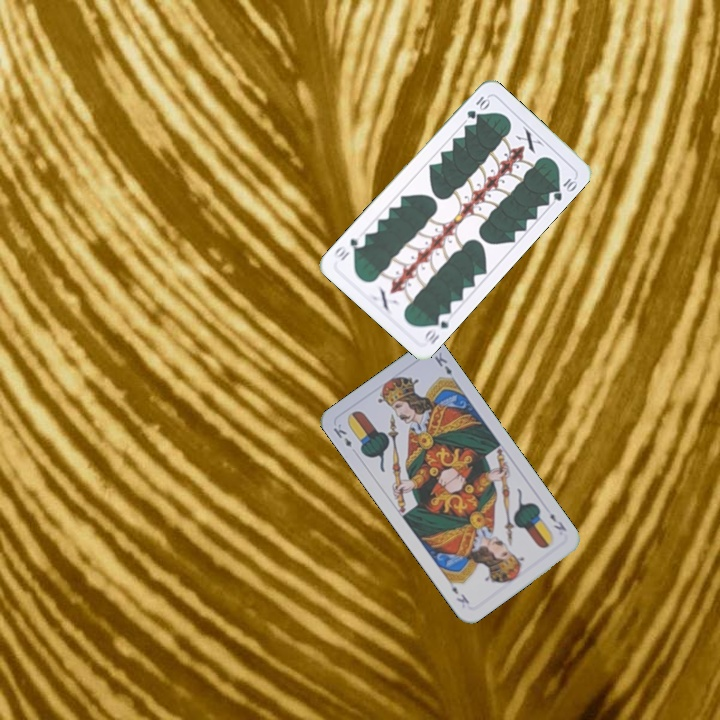EK: (329, 420, 354, 450), (546, 509, 569, 534)
G10: (419, 309, 452, 347), (463, 92, 492, 122)
